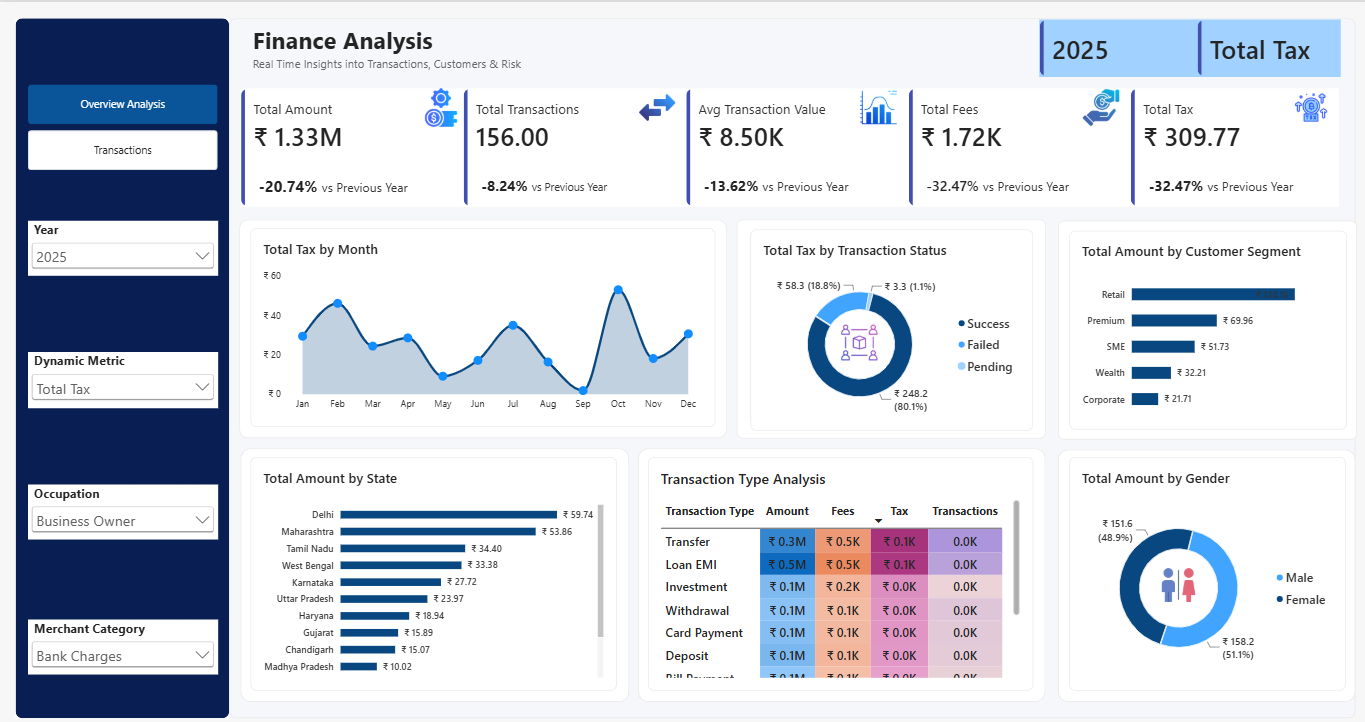

Layout of this report page (visuals, bound fields, positions):
{"tool":"powerbi","page":{"name":"Overview Analysis","canvas":[1800,950],"ordinal":0},"visuals":[{"type":"shape","box":[22.9,21.3,279.6,915.7],"z":0},{"type":"shape","box":[302.5,21.3,1473.3,915.7],"z":1000},{"type":"cardVisual","fields":{"Data":["finance_transactions.Dashboard Title"]},"box":[317.2,8.2,596.8,104.7],"z":2000},{"type":"cardVisual","fields":{"Data":["finance_transactions.Total Amount","finance_transactions.Total Transactions","finance_transactions.Avg Transaction Value","finance_transactions.Total Fees","finance_transactions.Total Tax"]},"box":[317.2,112.8,1439,155],"z":3000},{"type":"slicer","fields":{"Values":["Calendar Table.Year"]},"box":[39.2,286.2,248.5,71.9],"z":4000},{"type":"image","box":[554.3,112.8,50,50],"z":5000},{"type":"image","box":[837.2,112.8,50,50],"z":6000},{"type":"image","box":[1417.7,112.8,50,50],"z":7000},{"type":"image","box":[1126.6,112.8,50,50],"z":8000},{"type":"image","box":[1692.4,112.8,50,50],"z":9000},{"type":"slicer","fields":{"Values":["Dynamic Metric.Dynamic Metric"]},"box":[39.2,457.9,248.5,73.6],"z":10000},{"type":"shape","box":[315.6,284.5,637.7,286.2],"z":11000},{"type":"areaChart","fields":{"Category":["Calendar Table.Month"],"Y":["finance_transactions.Total Tax"]},"box":[330.3,296,608.3,260],"z":12000},{"type":"cardVisual","fields":{"Data":["finance_transactions.Selected Year","finance_transactions.Selected Dynamic Measure"]},"box":[1362.1,22.9,394.1,75.2],"z":13000},{"type":"shape","box":[966.4,284.5,403.9,286.2],"z":14000},{"type":"donutChart","title":"Total Tax by Transaction Status","fields":{"Category":["finance_transactions.transaction_status"],"Y":["finance_transactions.Total Tax"]},"box":[984.4,297.6,369.6,263.3],"z":15000},{"type":"shape","box":[1386.6,286.2,390.8,286.2],"z":16000},{"type":"barChart","title":"Total Amount by Customer Segment","fields":{"Category":["customers.customer_segment"],"Y":["finance_transactions.Total Tax"]},"box":[1401.3,299.2,363,260],"z":17000},{"type":"shape","box":[317.2,583.8,508.5,331.9],"z":18000},{"type":"barChart","title":"Total Amount by State ","fields":{"Category":["customers.state"],"Y":["finance_transactions.Total Tax"]},"box":[330.3,595.2,479.1,305.8],"z":19000},{"type":"shape","box":[837.2,583.8,533.1,331.9],"z":20000},{"type":"tableEx","title":"Transaction Type Analysis","fields":{"Values":["finance_transactions.transaction_type","finance_transactions.Total Amount","finance_transactions.Total Fees","finance_transactions.Total Tax","finance_transactions.Total Transactions"]},"box":[850.3,595.2,503.6,305.8],"z":21000},{"type":"shape","box":[1386.6,585.4,389.2,330.3],"z":22000},{"type":"donutChart","title":"Total Amount by Gender","fields":{"Category":["customers.gender"],"Y":["finance_transactions.Total Tax"]},"box":[1401.3,595.2,361.4,305.8],"z":23000},{"type":"image","box":[1093.9,420.2,65.4,50.7],"z":24000},{"type":"image","box":[1484.7,737.5,119.4,50.7],"z":25000},{"type":"slicer","fields":{"Values":["customers.occupation"]},"box":[39.2,631.2,248.5,71.9],"z":26000},{"type":"slicer","fields":{"Values":["finance_transactions.merchant_category"]},"box":[39.2,807.8,248.5,71.9],"z":27000},{"type":"pageNavigator","box":[39.2,107.9,248.5,112.8],"z":28000}]}

Visuals, with their boxes in screenshot pixels (x1, y1, x2, y2), scaled from the page's 1800x950 canvas onto the 1365x722 screenshot:
shape: locate(17, 16, 229, 712)
shape: locate(229, 16, 1347, 712)
cardVisual - finance_transactions.Dashboard Title: locate(241, 6, 693, 86)
cardVisual - finance_transactions.Total Amount x finance_transactions.Total Transactions: locate(241, 86, 1332, 204)
slicer - Calendar Table.Year: locate(30, 218, 218, 272)
image: locate(420, 86, 458, 124)
image: locate(635, 86, 673, 124)
image: locate(1075, 86, 1113, 124)
image: locate(854, 86, 892, 124)
image: locate(1283, 86, 1321, 124)
slicer - Dynamic Metric.Dynamic Metric: locate(30, 348, 218, 404)
shape: locate(239, 216, 723, 434)
areaChart - Calendar Table.Month x finance_transactions.Total Tax: locate(250, 225, 712, 423)
cardVisual - finance_transactions.Selected Year x finance_transactions.Selected Dynamic Measure: locate(1033, 17, 1332, 75)
shape: locate(733, 216, 1039, 434)
"Total Tax by Transaction Status" donutChart: locate(747, 226, 1027, 426)
shape: locate(1052, 218, 1348, 435)
"Total Amount by Customer Segment" barChart: locate(1063, 227, 1338, 425)
shape: locate(241, 444, 626, 696)
"Total Amount by State " barChart: locate(250, 452, 614, 685)
shape: locate(635, 444, 1039, 696)
"Transaction Type Analysis" tableEx: locate(645, 452, 1027, 685)
shape: locate(1052, 445, 1347, 696)
"Total Amount by Gender" donutChart: locate(1063, 452, 1337, 685)
image: locate(830, 319, 879, 358)
image: locate(1126, 560, 1216, 599)
slicer - customers.occupation: locate(30, 480, 218, 534)
slicer - finance_transactions.merchant_category: locate(30, 614, 218, 669)
pageNavigator: locate(30, 82, 218, 168)
